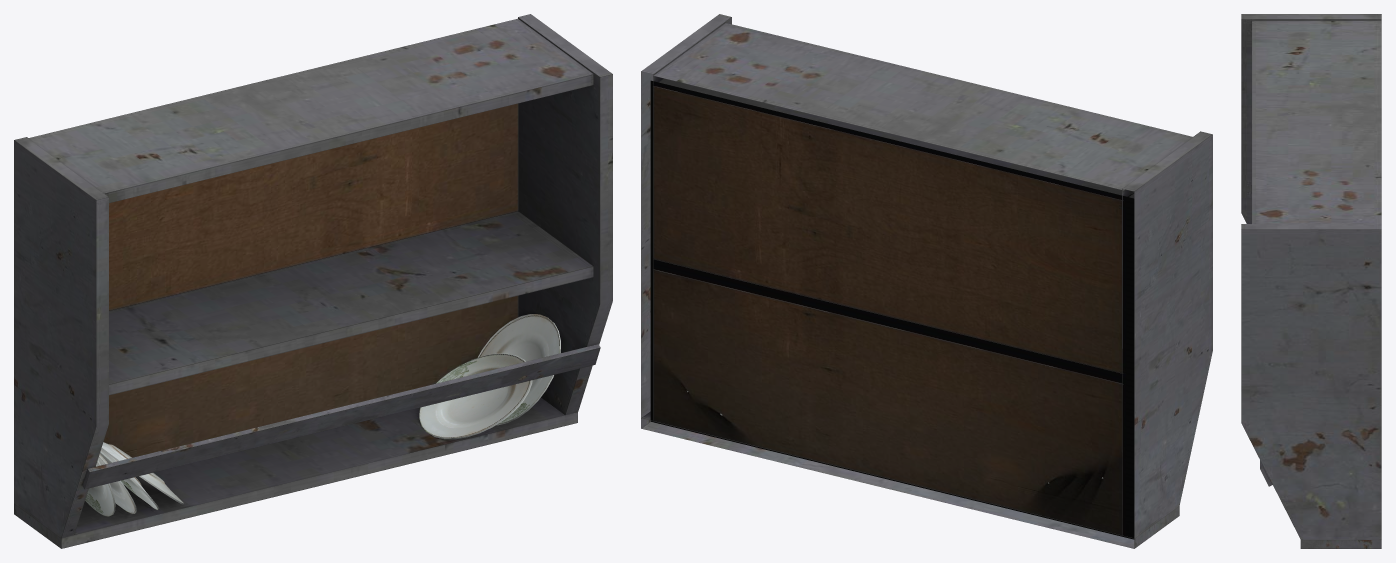
File: cupboard.FBX
3 renders of one model, left to right at view 1: azimuth 30°, elevation 25°; view 2: azimuth 150°, elevation 25°; view 3: azimuth 270°, elevation 25°, orthographic. The views are drawn at different scales.
Visible parts, largest first — view 1: cupboard; view 2: cupboard; view 3: cupboard.
Part boxes in pixels (x1,y1,x2,y2): cupboard: [14, 14, 612, 548]; cupboard: [641, 14, 1212, 548]; cupboard: [1241, 14, 1381, 548].
Bounding box in the file's own units: 102 × 70.52 × 28.07.
